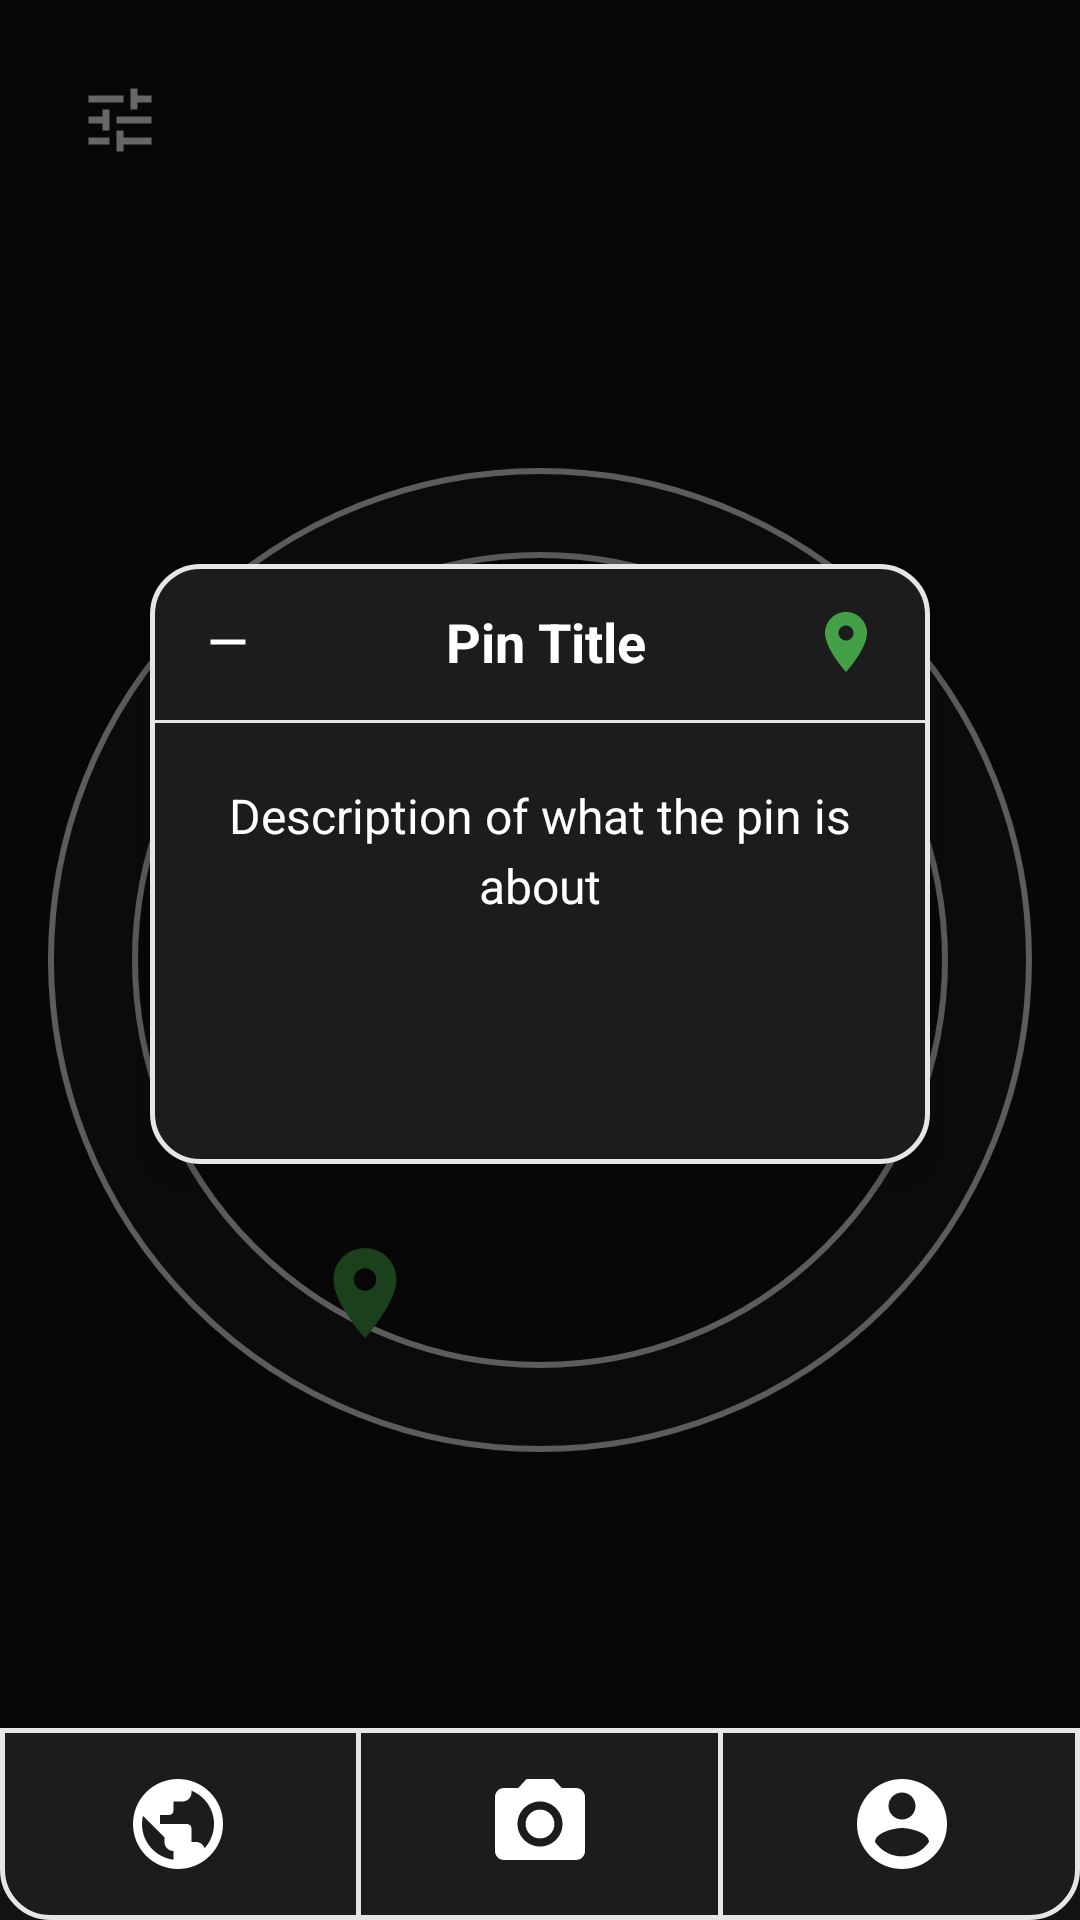

Screen size 1080x1920. Icon name, then its box in pixels as region(x1, y1, x2, y2):
Filter categories: region(88, 88, 152, 152)
Map: region(133, 1779, 223, 1869)
Profile: region(857, 1779, 947, 1869)
